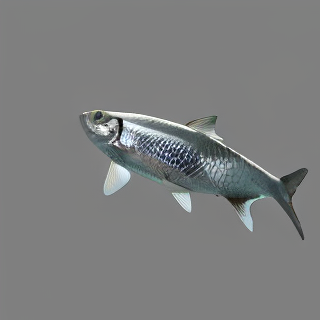Pecific herring: (76, 103, 308, 243)
